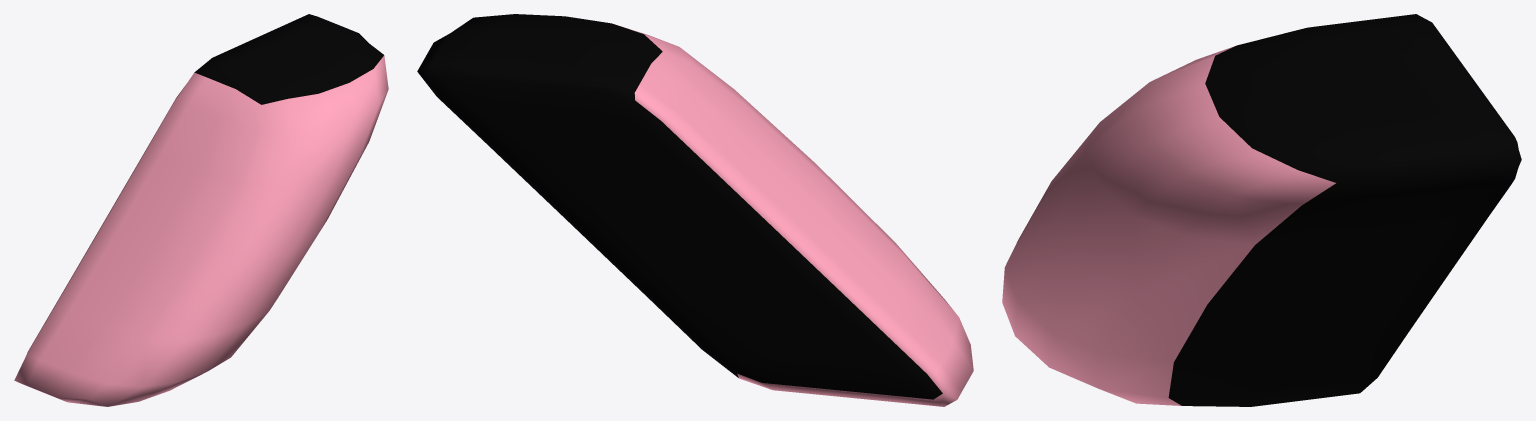
3 renders of one model, left to right at view 1: azimuth 30°, elevation 25°; view 2: azimuth 150°, elevation 25°; view 3: azimuth 270°, elevation 25°, orthographic. The views are drawn at different scales.
Parts seen in each view (by area): view 1: Box1254; view 2: Box1254; view 3: Box1254.
Boxes of the visible parts, x1=… form: Box1254: x1=14, y1=14, x2=388, y2=406; Box1254: x1=417, y1=14, x2=973, y2=406; Box1254: x1=1002, y1=14, x2=1521, y2=406.
Size of the model in its own units: 0.0604 by 0.0357 by 0.0355.
